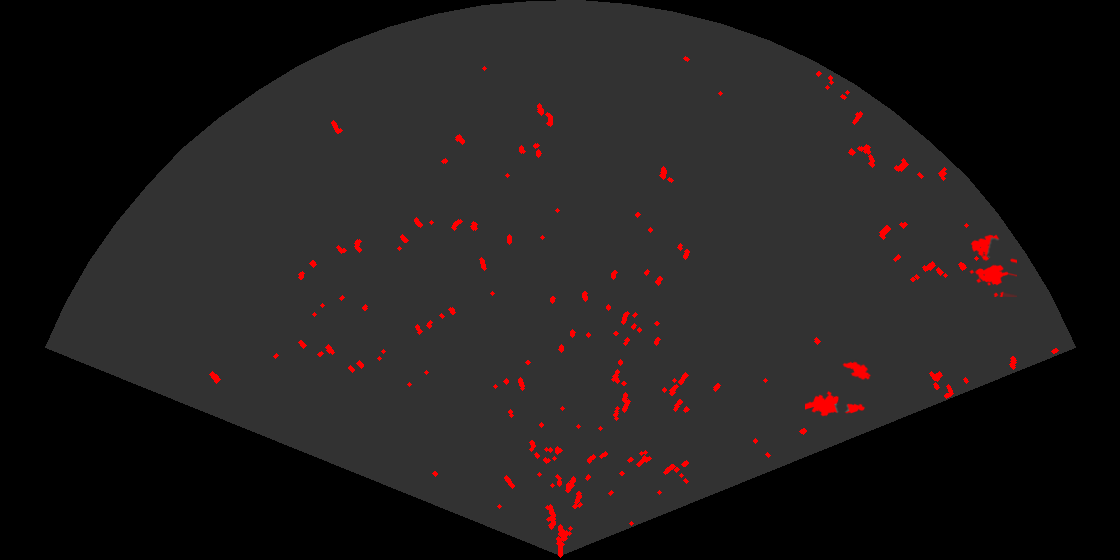AUV: (841, 359, 872, 382)
cage: (968, 233, 1017, 297)
frogman: (805, 389, 867, 418)
